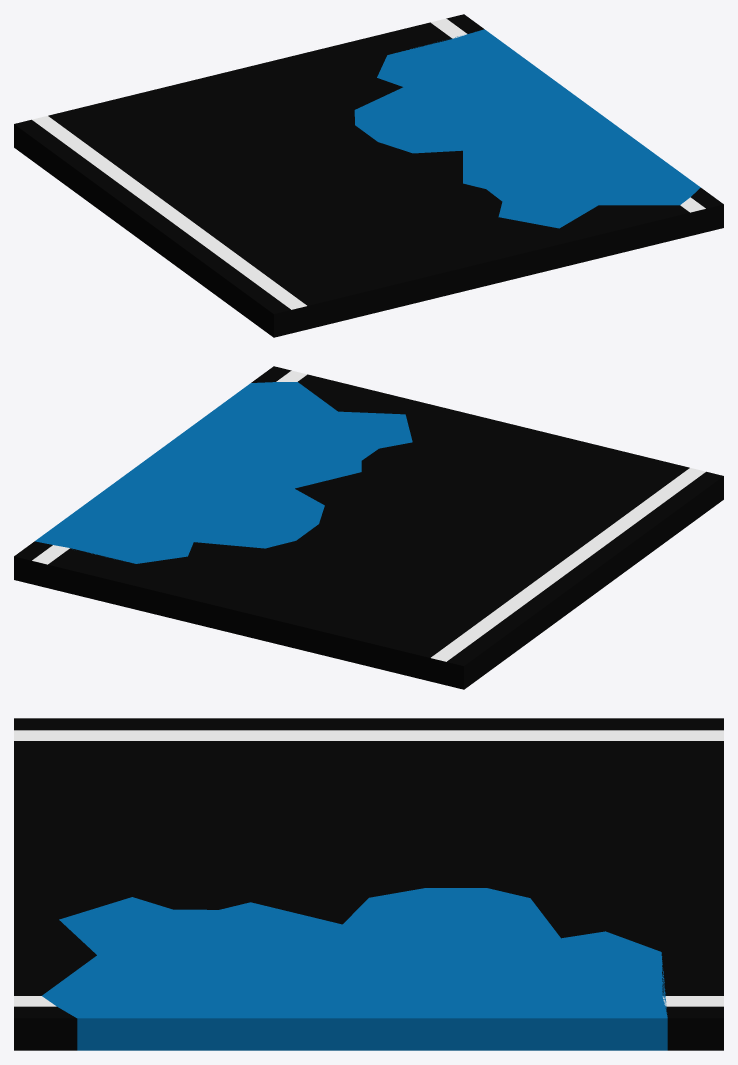
The model's file is icetile1.fbx.
3 renders of one model, top to bottom at view 1: azimuth 30°, elevation 25°; view 2: azimuth 150°, elevation 25°; view 3: azimuth 270°, elevation 25°, orthographic. The views are drawn at different scales.
Visible parts, largest first — view 1: Cube.003, Cube.004; view 2: Cube.003, Cube.004; view 3: Cube.003, Cube.004.
Boxes of the visible parts, <box> form: Cube.003: <box>14,14,723,337</box>; Cube.004: <box>354,29,700,228</box>; Cube.003: <box>14,366,723,689</box>; Cube.004: <box>35,382,412,563</box>; Cube.003: <box>14,718,723,1050</box>; Cube.004: <box>42,888,667,1050</box>.
Size of the model in its own units: 20 by 1 by 20.
